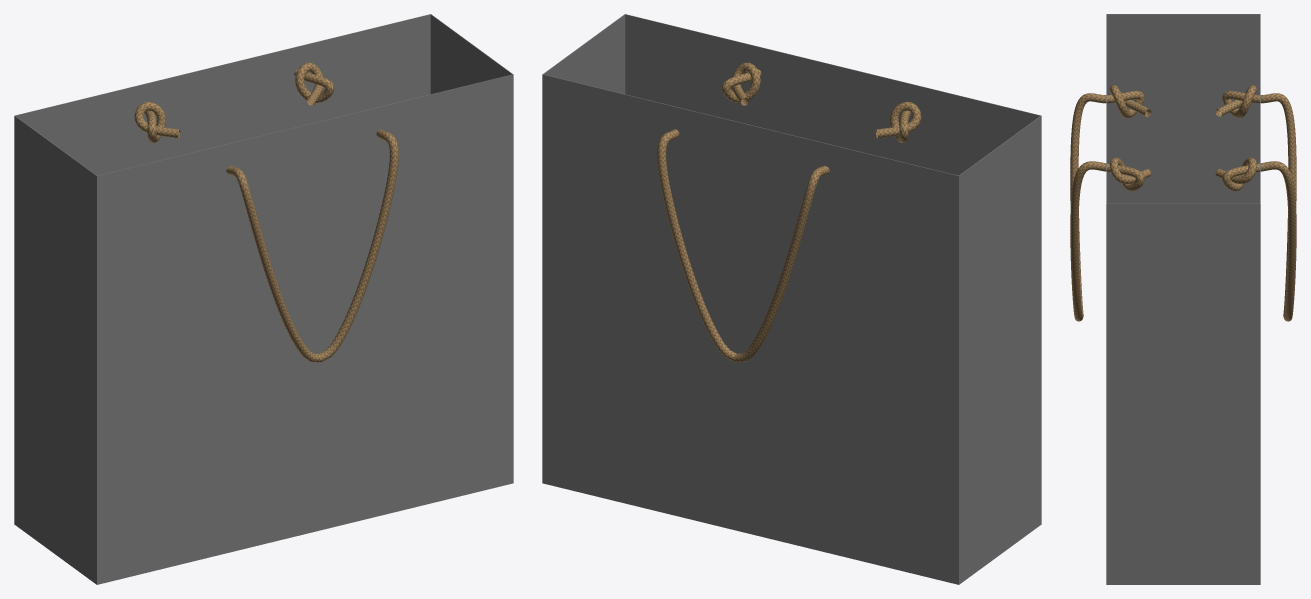
The model's file is sample.obj.
The picture shows the model from 3 angles, left to right: view 1: azimuth 30°, elevation 25°; view 2: azimuth 150°, elevation 25°; view 3: azimuth 270°, elevation 25°; orthographic projection. The views are drawn at different scales.
Visible parts, largest first — view 1: bag_body1, string1, string2; view 2: bag_body1, string2, string1; view 3: bag_body1, string1, string2.
Boxes of the visible parts, left/top/right/bottom form: bag_body1: left=14, top=14, right=513, bottom=584; string1: left=226, top=129, right=398, bottom=362; string2: left=134, top=62, right=334, bottom=142; bag_body1: left=542, top=14, right=1041, bottom=584; string2: left=657, top=129, right=829, bottom=362; string1: left=721, top=62, right=921, bottom=142; bag_body1: left=1106, top=14, right=1260, bottom=584; string1: left=1070, top=85, right=1151, bottom=321; string2: left=1215, top=85, right=1296, bottom=321.
Bounding box in the file's own units: 32 × 30 × 16.15.
2 materials, 1 textured.
